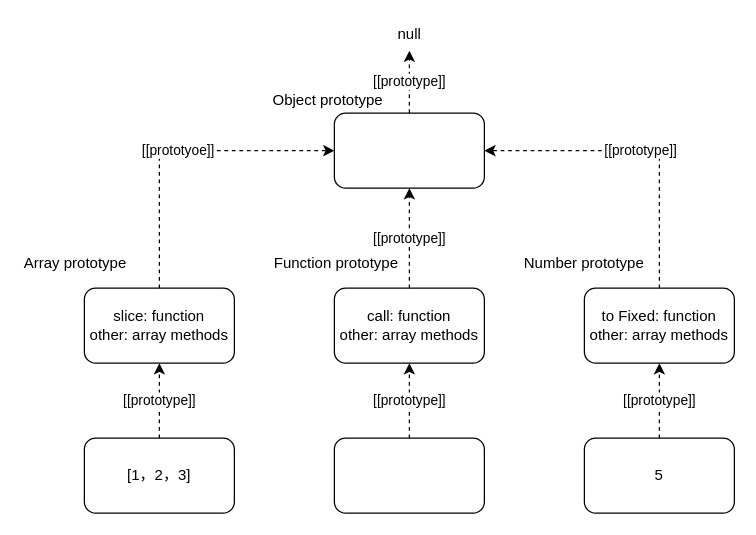
This 756x535 diagram has some shape labels left out. Here are the shapes that lost their labels. From the top down, the centre of each, then its label:
(x=408, y=150): toString: function other: array methods
(x=408, y=475): function f(arg) {}
